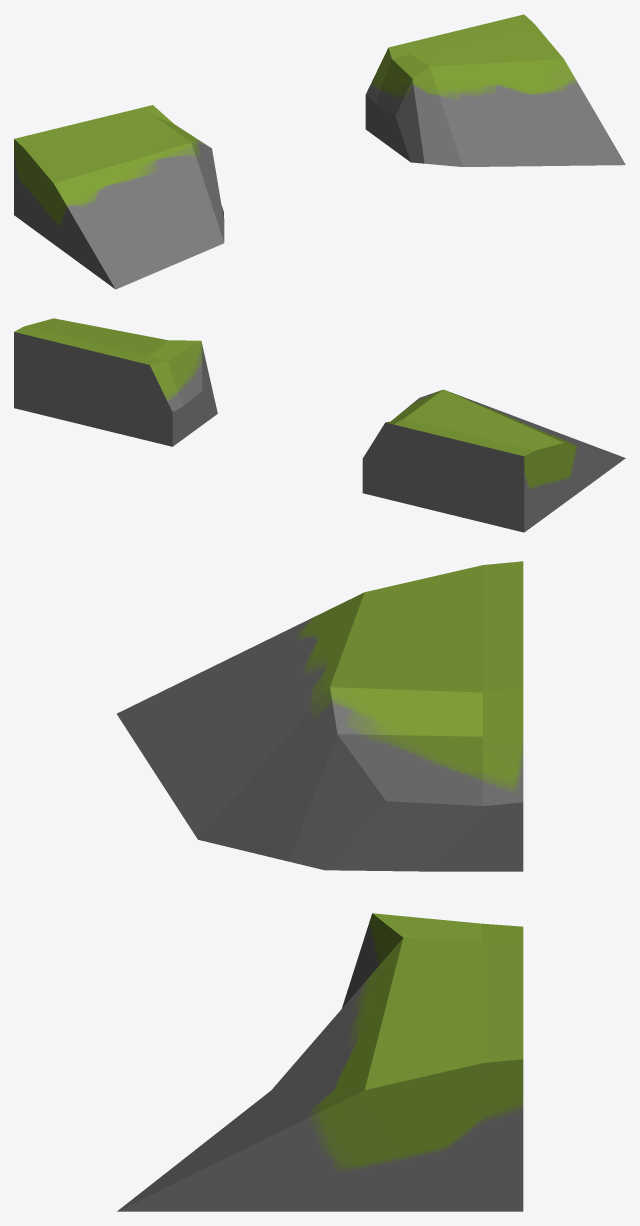
Rendered from waterfallTop.fbx.
The picture shows the model from 3 angles, top to bottom: view 1: azimuth 30°, elevation 25°; view 2: azimuth 150°, elevation 25°; view 3: azimuth 270°, elevation 25°; orthographic projection. The views are drawn at different scales.
Visible parts, largest first — view 1: waterfallTop; view 2: waterfallTop; view 3: waterfallTop.
Boxes of the visible parts, x1,y1,x2,y2 form: waterfallTop: (14, 14, 625, 289); waterfallTop: (14, 318, 625, 532); waterfallTop: (117, 561, 523, 1211).
Size of the model in its own units: 200 by 28.57 by 69.07.
1 material, 1 textured.
